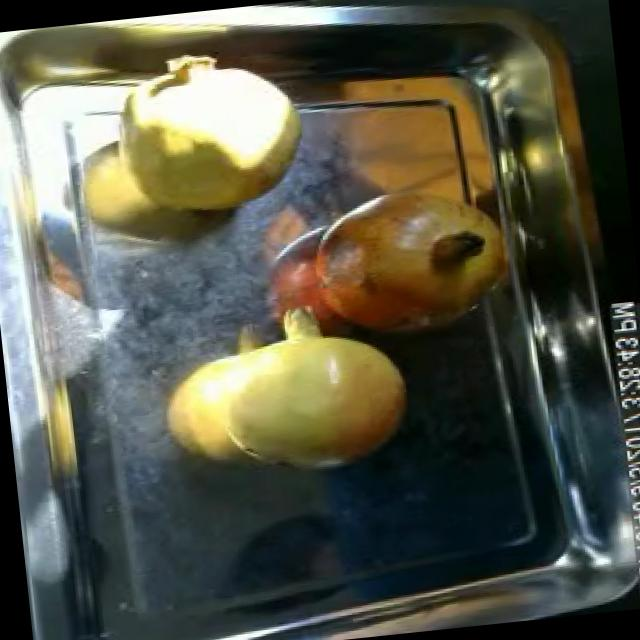fruit: (85, 32, 326, 234), (191, 283, 423, 490), (294, 171, 528, 351)
